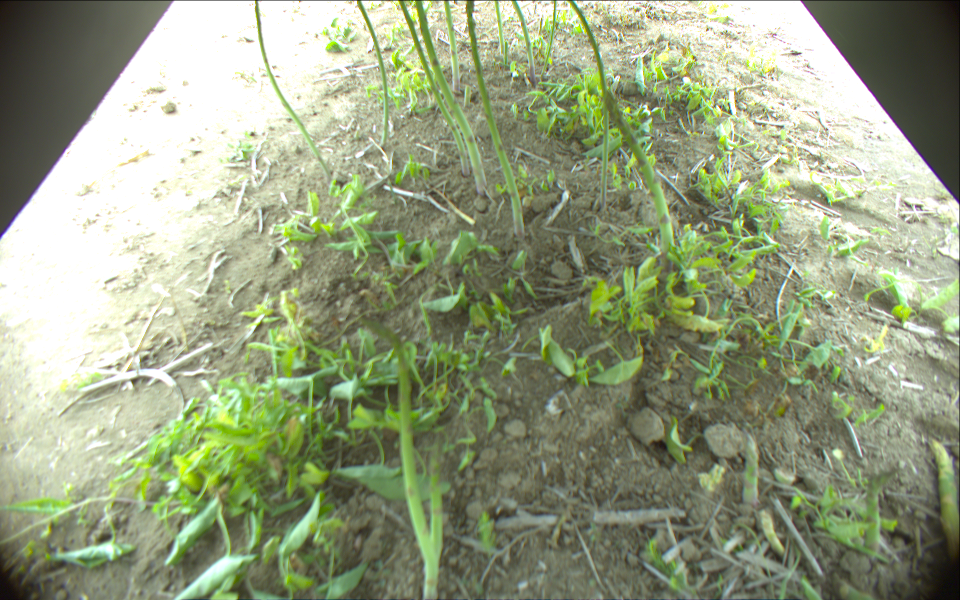aspa: (360, 318, 436, 600), (462, 1, 525, 240), (415, 1, 489, 193), (252, 1, 331, 178), (397, 1, 471, 176), (604, 90, 676, 251), (567, 1, 608, 209), (354, 1, 389, 148), (422, 431, 447, 578), (929, 439, 960, 550), (865, 466, 899, 552), (511, 1, 538, 85), (442, 1, 461, 92), (541, 1, 559, 76), (742, 435, 761, 502), (494, 1, 507, 56), (505, 41, 510, 62)
